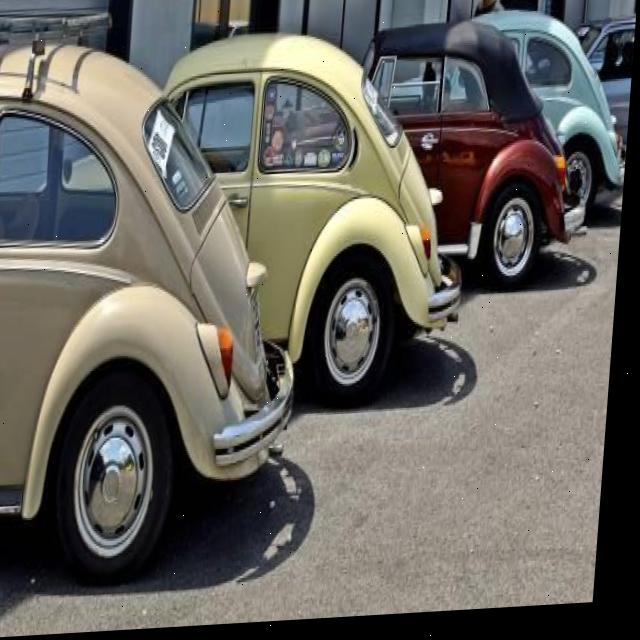vehicle: (0, 29, 301, 565), (109, 44, 460, 416), (337, 30, 572, 300), (436, 0, 620, 214)
